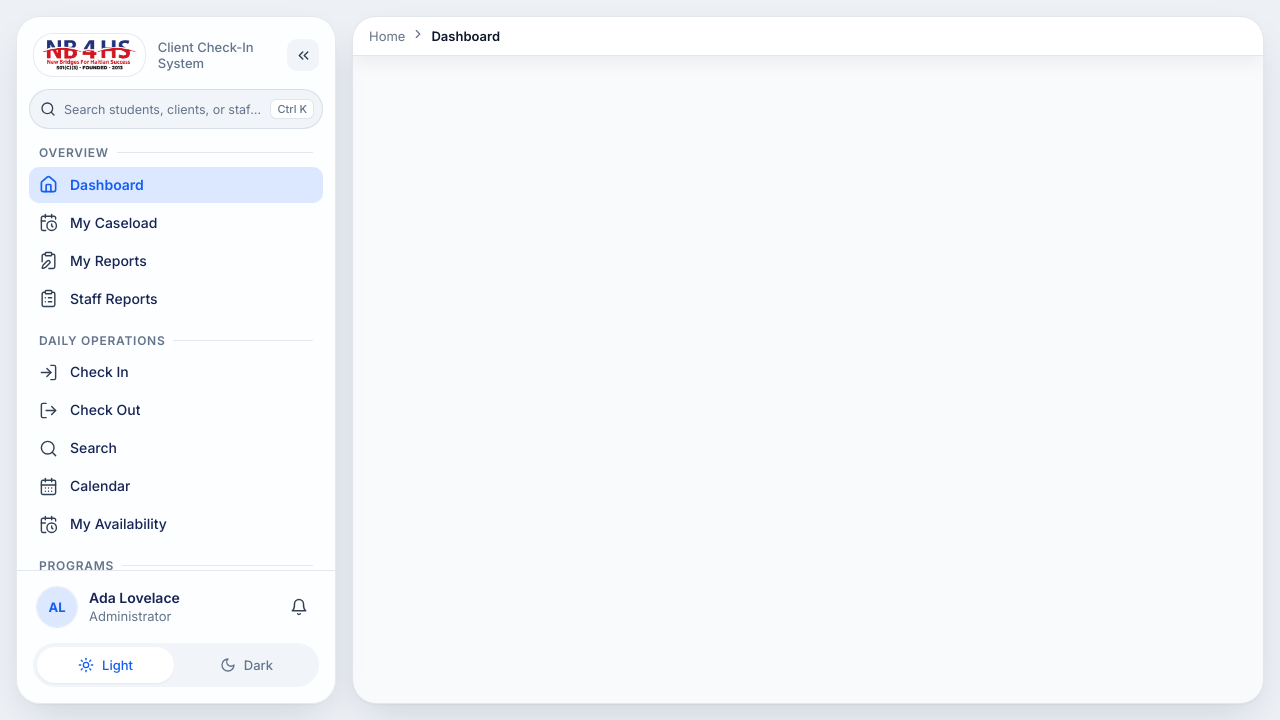
it: Shell sidebar › offers Your profile in the account menu
The image size is (1280, 720).
Press the mouse on the button with aria-label "Account menu" at {"x": 154, "y": 607}, box [33, 583, 275, 631]
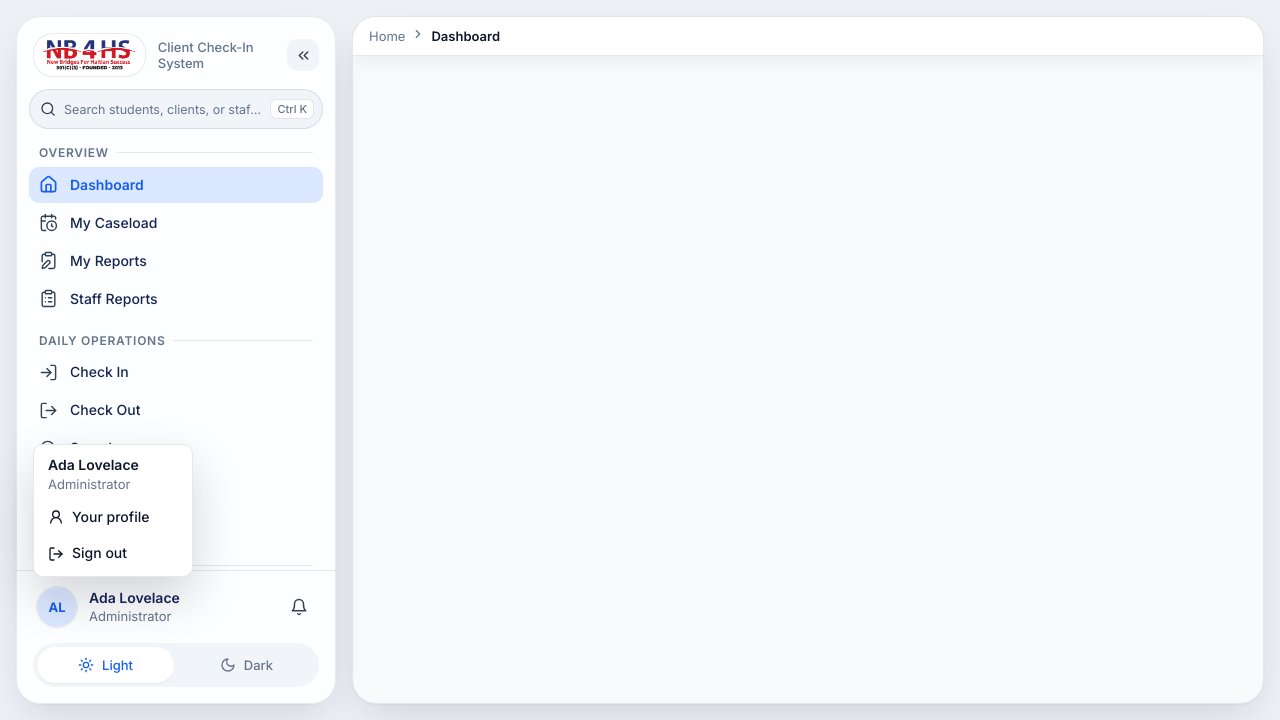
Expected: the menu item "Your profile" is shown, [48, 508, 149, 525]
